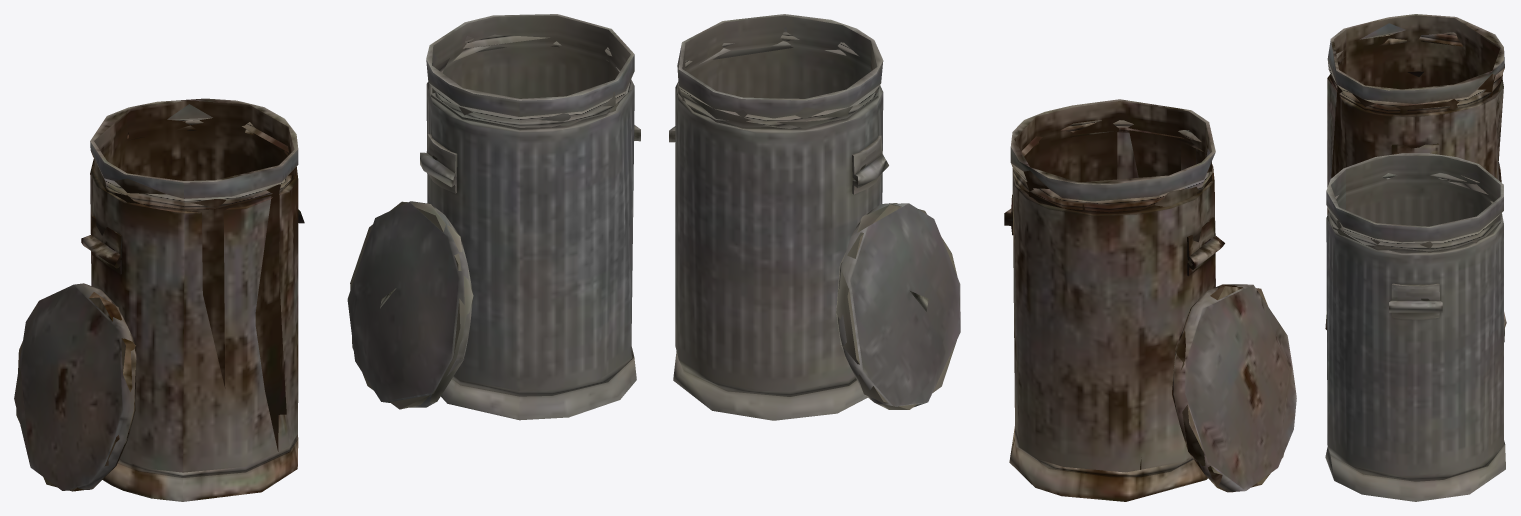
Rendered from metal_trash_can.glb.
3 views of the same model, side by side, from view 1: azimuth 30°, elevation 25°; view 2: azimuth 150°, elevation 25°; view 3: azimuth 270°, elevation 25° (orthographic). The views are drawn at different scales.
Parts seen in each view (by area): view 1: metal_trash_can, metal_trash_can_rust; view 2: metal_trash_can, metal_trash_can_rust; view 3: metal_trash_can, metal_trash_can_rust.
Boxes of the visible parts, x1,y1,x2,y2 form: metal_trash_can: [347, 14, 640, 420]; metal_trash_can_rust: [14, 98, 304, 501]; metal_trash_can: [669, 14, 960, 420]; metal_trash_can_rust: [1004, 99, 1296, 501]; metal_trash_can: [1325, 153, 1505, 501]; metal_trash_can_rust: [1325, 14, 1506, 329].
Size of the model in its own units: 1.72 by 0.9062 by 0.5462.
Materials: 2 (2 with a texture image).
